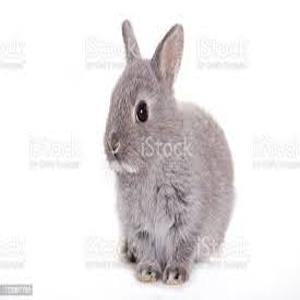rabbit: (104, 22, 230, 285)
